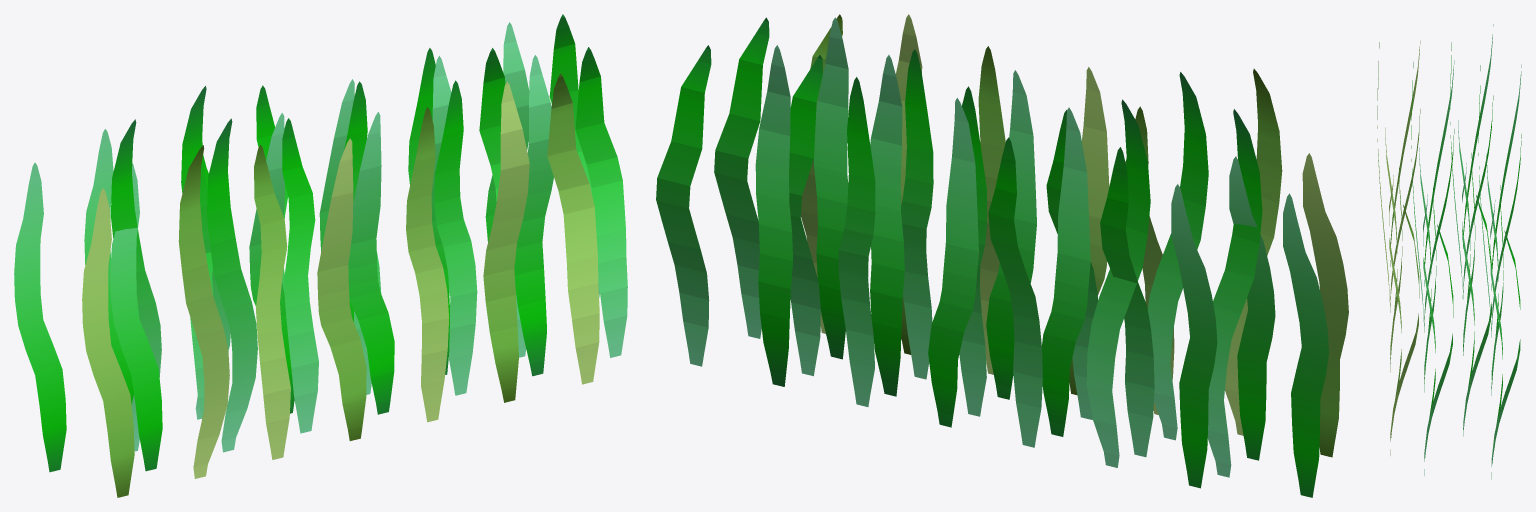
File: plantA.fbx
The picture shows the model from 3 angles, left to right: view 1: azimuth 30°, elevation 25°; view 2: azimuth 150°, elevation 25°; view 3: azimuth 270°, elevation 25°; orthographic projection. The views are drawn at different scales.
Visible parts, largest first — view 1: plantA; view 2: plantA; view 3: plantA.
Boxes of the visible parts, bbox=[...] form: plantA: bbox=[14, 14, 627, 497]; plantA: bbox=[656, 14, 1348, 497]; plantA: bbox=[1377, 24, 1521, 479].
Size of the model in its own units: 145 by 77.45 by 35.53.
